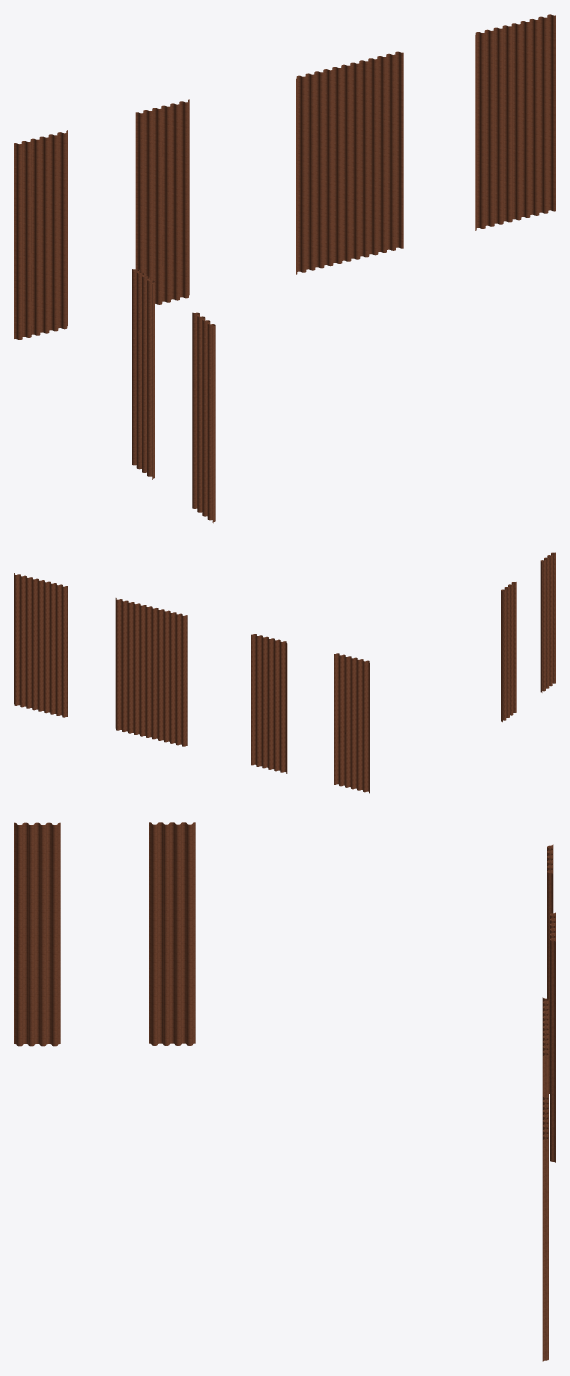
File: Curtain1.obj
The picture shows the model from 3 angles, top to bottom: view 1: azimuth 30°, elevation 25°; view 2: azimuth 150°, elevation 25°; view 3: azimuth 270°, elevation 25°; orthographic projection. The views are drawn at different scales.
Bounding box in the file's own units: 8.12 × 2.63 × 5.84.
Materials: 1 (1 with a texture image).
